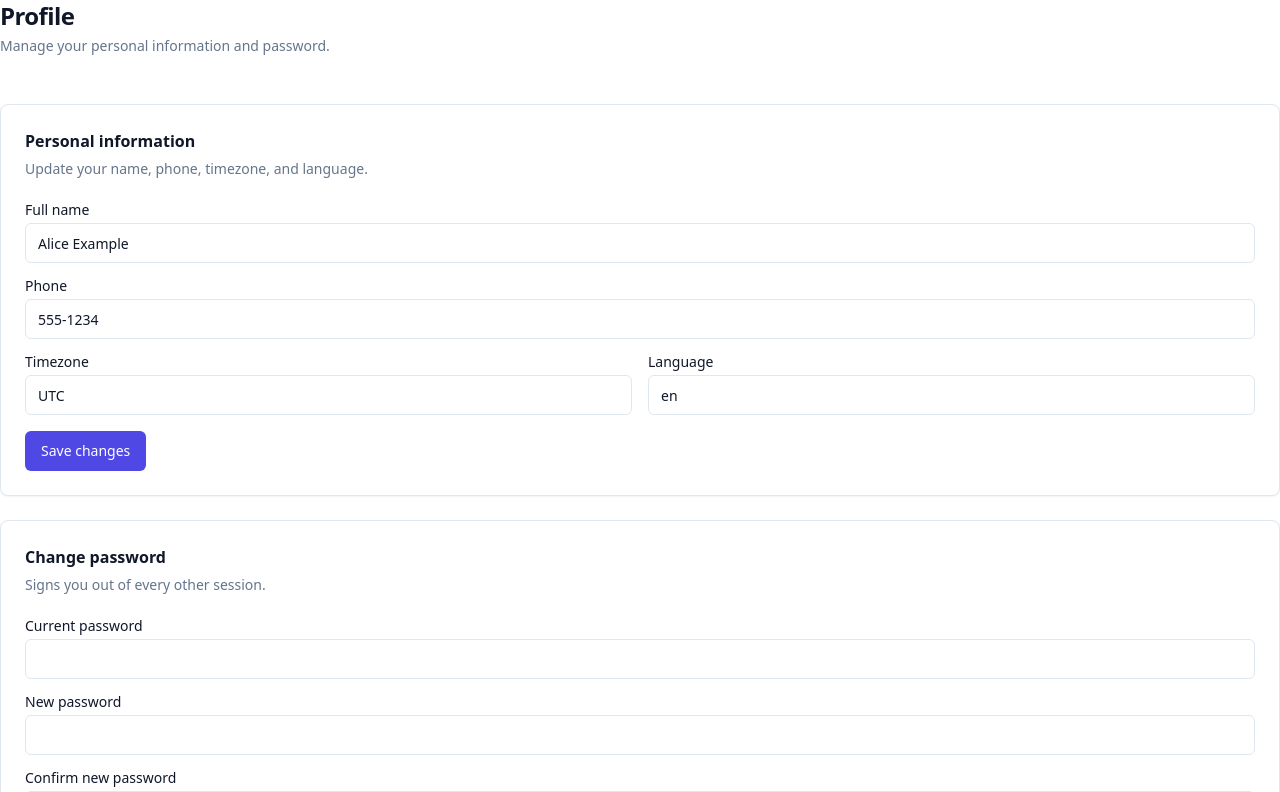
Test case: ProfilePage › validates the change-password form
The image size is (1280, 792).
Check: the field showing "Alice Example" is shown, box left=25, top=223, right=1255, bottom=263
Type "short" into the password field labelled "New password" at (640, 735), box left=25, top=715, right=1255, bottom=755
(page scrolled)
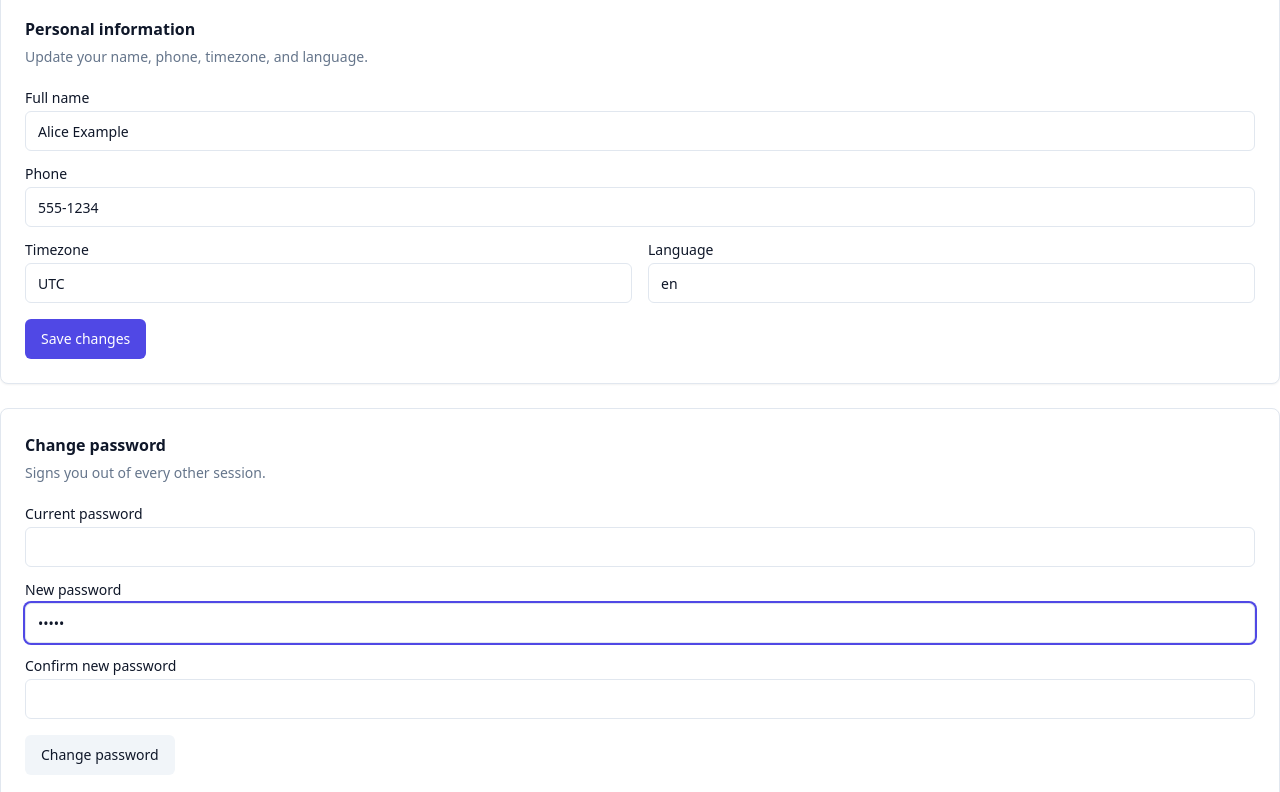
Click the button "Change password" at (100, 755), box left=25, top=735, right=175, bottom=775
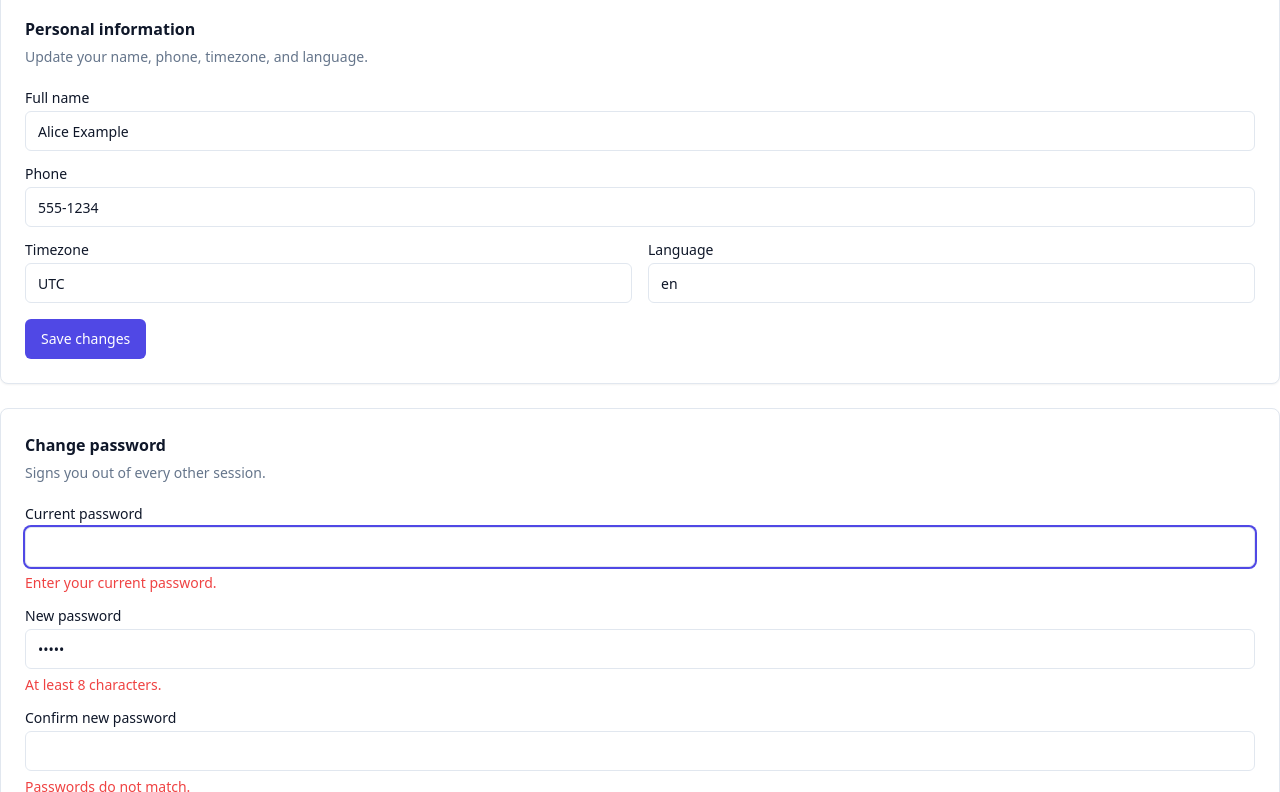
Check: the text "Enter your current password." is shown, box left=25, top=573, right=217, bottom=592
